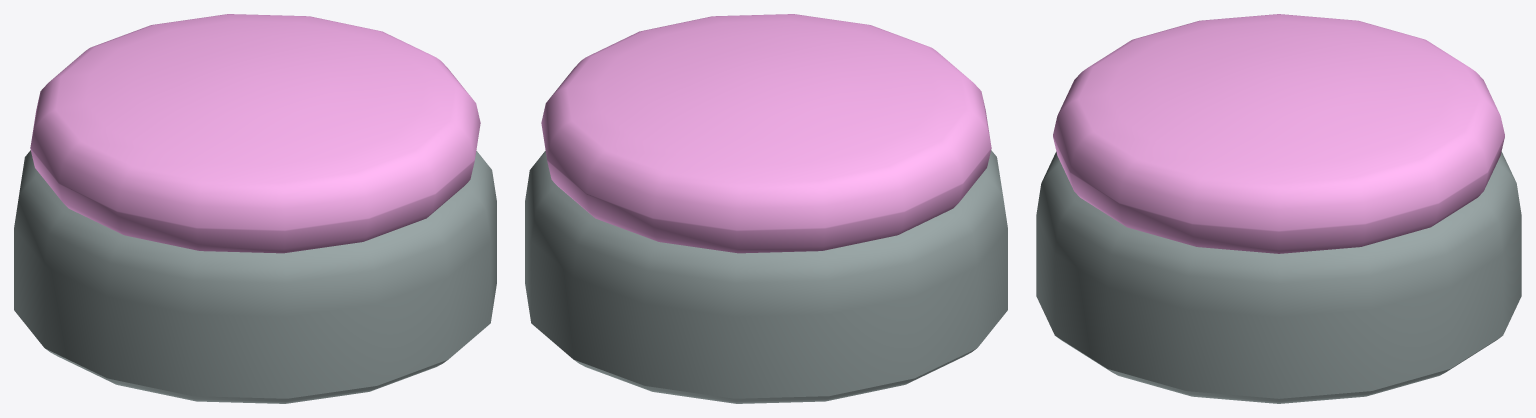
Rendered from button_pink.fbx.
3 views of the same model, side by side, from view 1: azimuth 30°, elevation 25°; view 2: azimuth 150°, elevation 25°; view 3: azimuth 270°, elevation 25° (orthographic).
Visible parts, largest first — view 1: ChamferCyl001, Gengon001; view 2: ChamferCyl001, Gengon001; view 3: ChamferCyl001, Gengon001.
Boxes of the visible parts, box(x1,y1,x2,y2) form: ChamferCyl001: box(30, 14, 480, 253); Gengon001: box(14, 150, 496, 403); ChamferCyl001: box(541, 14, 991, 253); Gengon001: box(525, 150, 1007, 403); ChamferCyl001: box(1053, 14, 1504, 253); Gengon001: box(1036, 151, 1521, 403).
Size of the model in its own units: 11.81 by 6.15 by 11.81.
